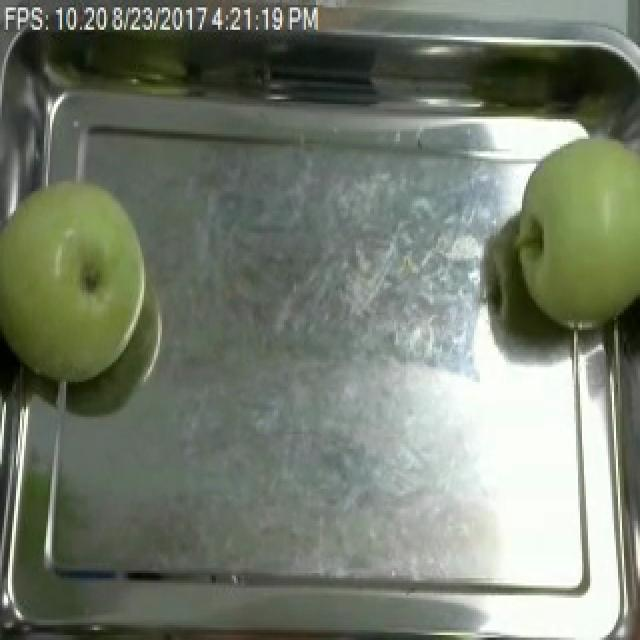50-_ripeness: (0, 185, 153, 379), (522, 127, 640, 329)
